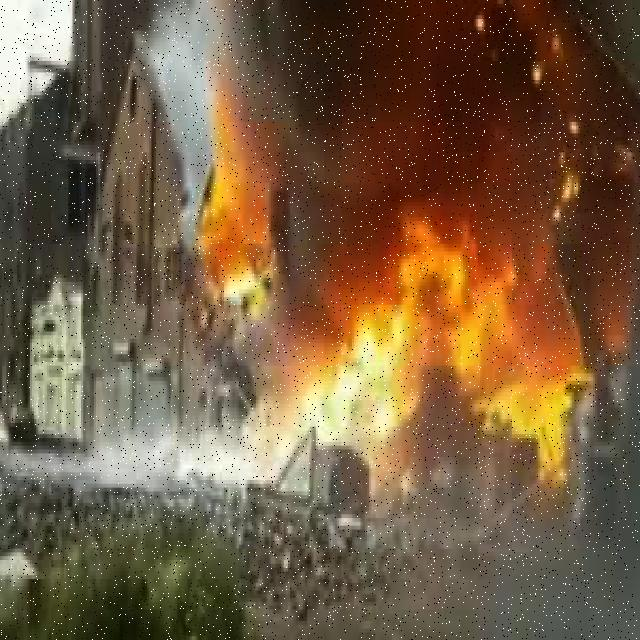fire: (289, 207, 606, 477), (188, 126, 288, 304)
